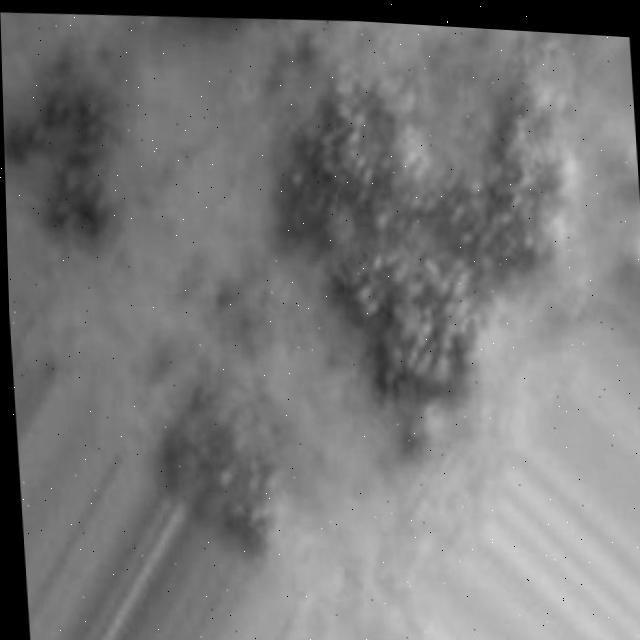Shingles: (276, 38, 598, 472), (1, 48, 133, 249), (156, 376, 297, 556), (174, 12, 272, 35)
